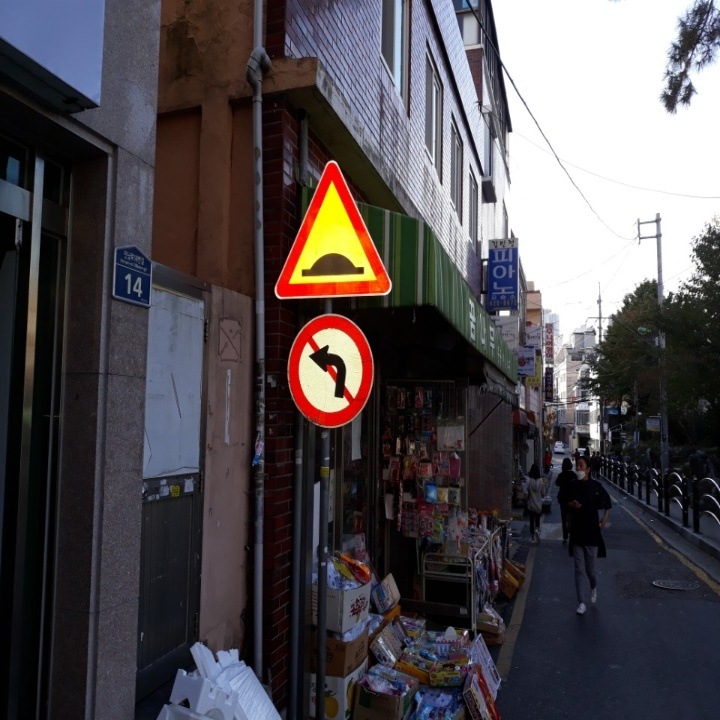bump: (271, 159, 391, 296)
left: (304, 340, 352, 403)
